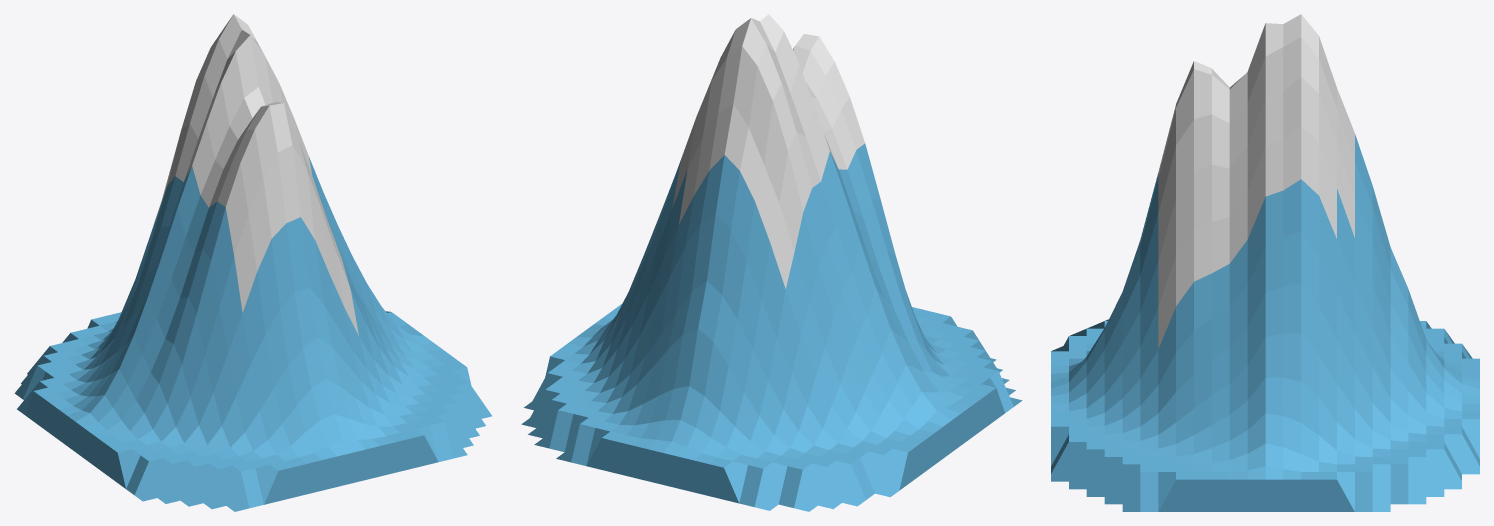
Rendered from IceMountain3.fbx.
3 views of the same model, side by side, from view 1: azimuth 30°, elevation 25°; view 2: azimuth 150°, elevation 25°; view 3: azimuth 270°, elevation 25° (orthographic). The views are drawn at different scales.
Visible parts, largest first — view 1: Landscape; view 2: Landscape; view 3: Landscape.
Boxes of the visible parts, x1=… form: Landscape: x1=14, y1=14, x2=491, y2=511; Landscape: x1=521, y1=14, x2=1022, y2=511; Landscape: x1=1051, y1=14, x2=1479, y2=511.
Size of the model in its own units: 1200 by 1257 by 1200.
